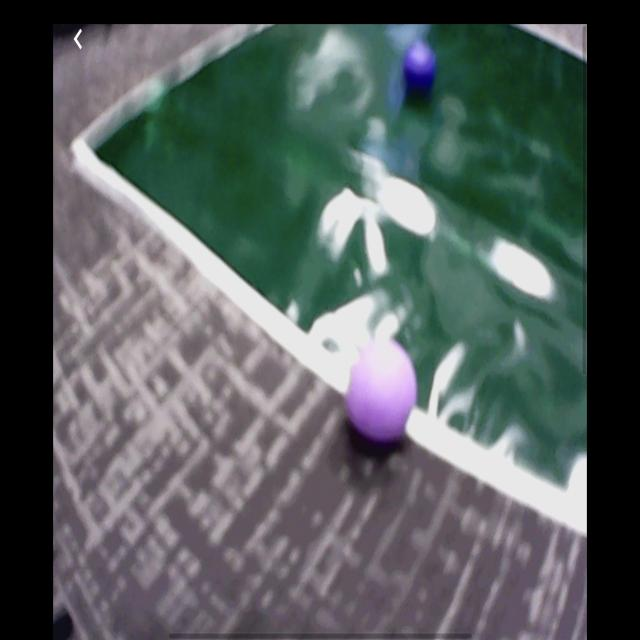ball: (347, 336, 417, 440), (405, 43, 438, 88)
